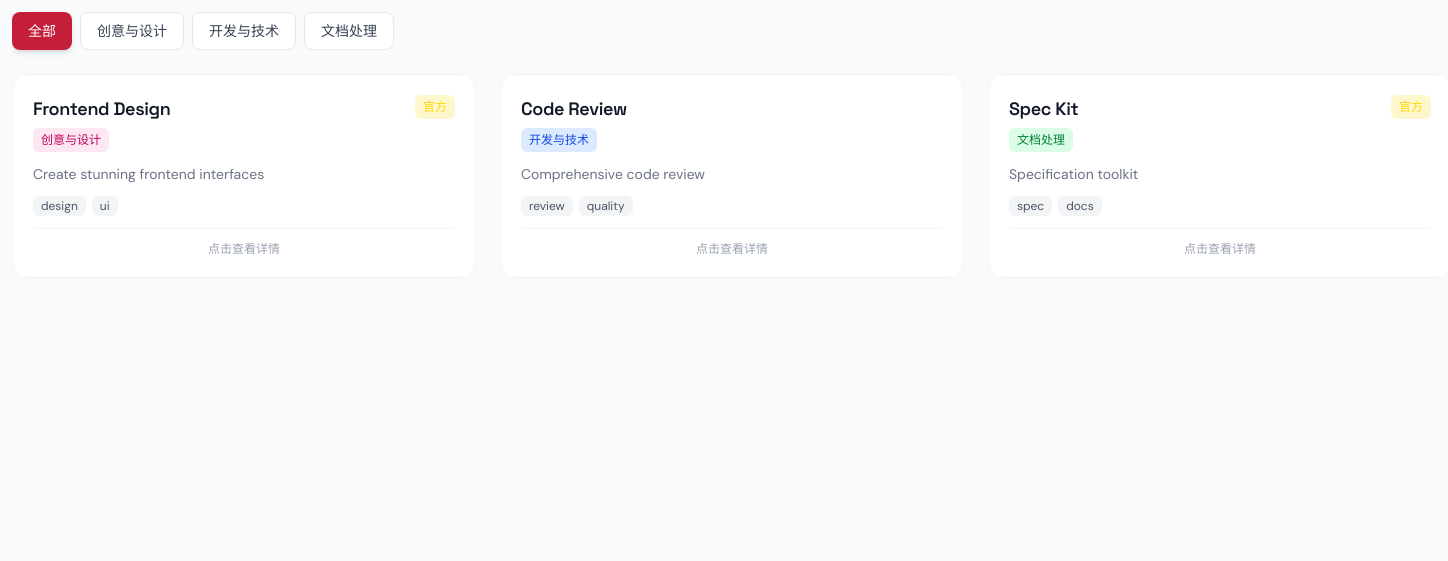
Test: SkillCardGrid › collapses card details on second click
Click the heading "Frontend Design" at (102, 108), box [33,97,170,120]
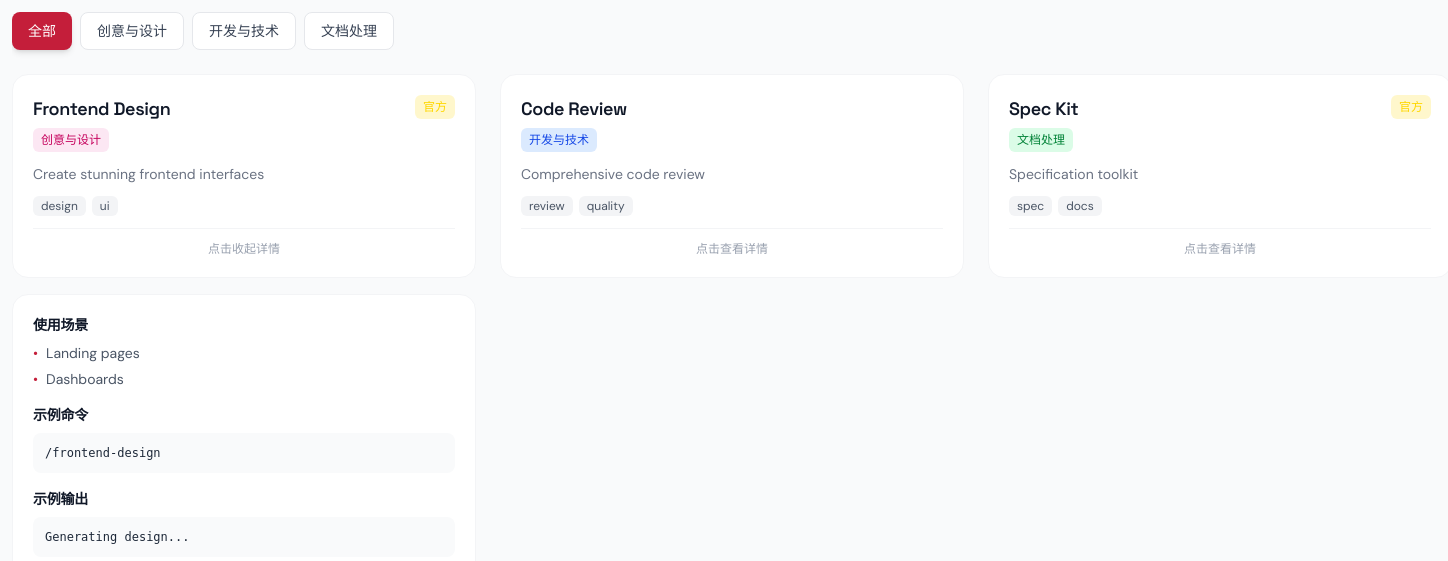
Check: the text "Landing pages" is shown, box [46,343,140,363]
Click the heading "Frontend Design" at (102, 108), box [33,97,170,120]
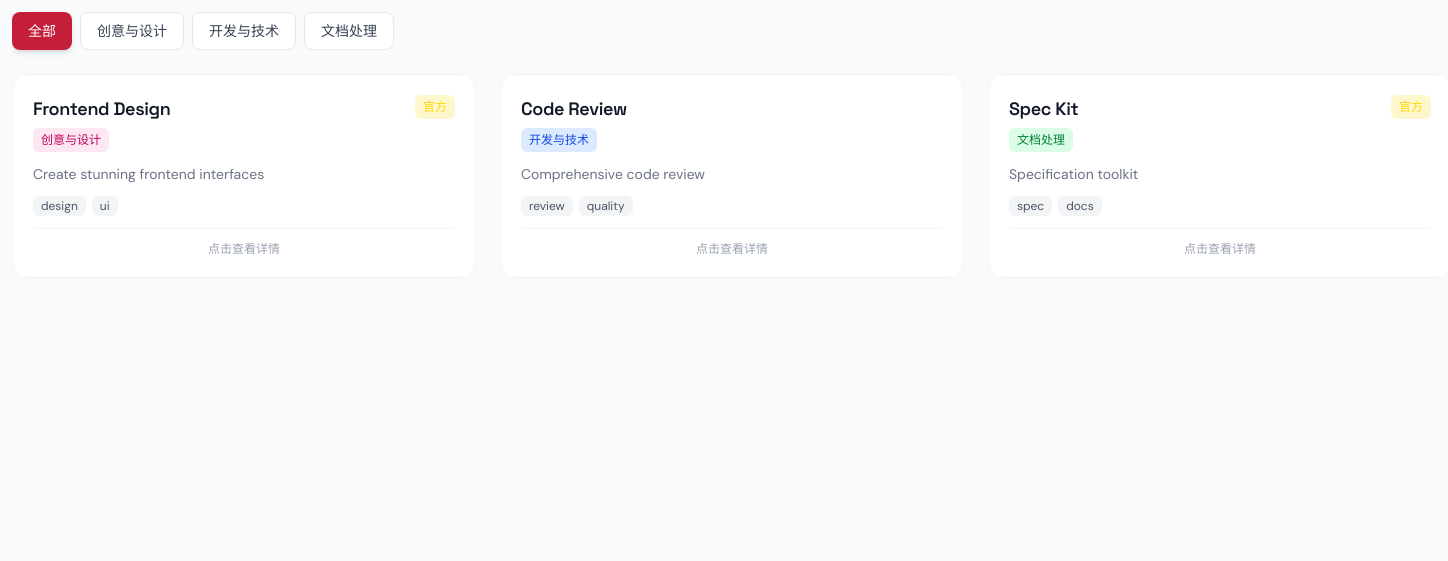
Check: the text "Landing pages" is gone
